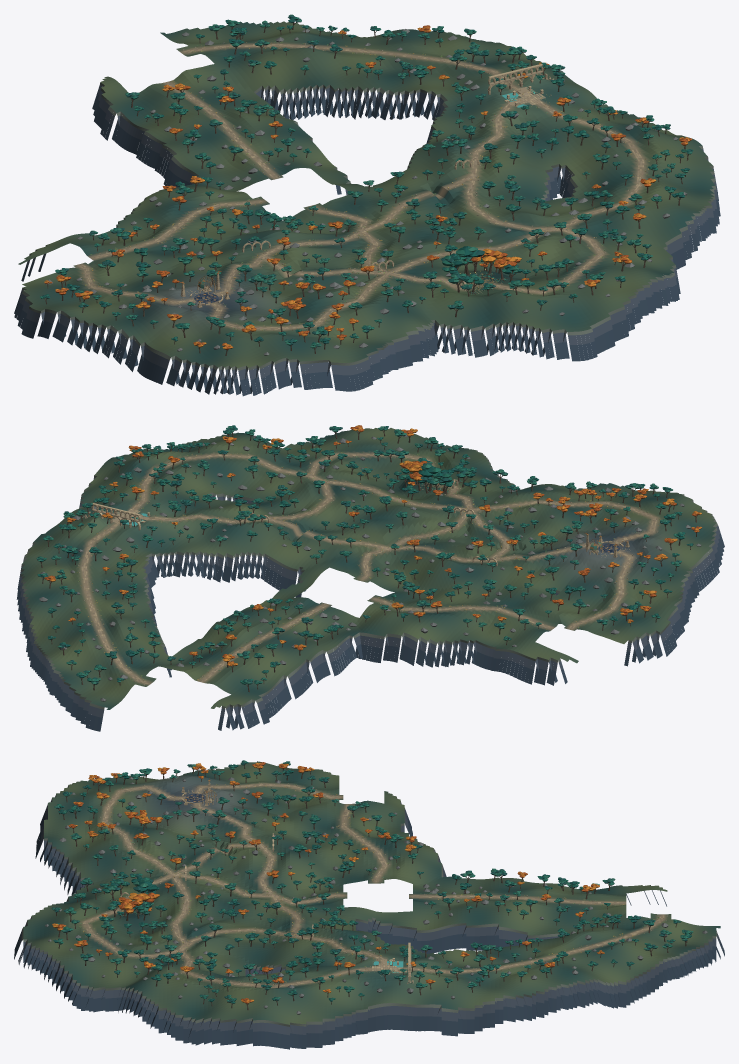
Rendered from outer_land_2.glb.
The picture shows the model from 3 angles, top to bottom: view 1: azimuth 30°, elevation 25°; view 2: azimuth 150°, elevation 25°; view 3: azimuth 270°, elevation 25°; orthographic projection. The views are drawn at different scales.
Visible parts, largest first — view 1: Ground_14_14-col, Ground_11_5-col, Ground_11_16-col, Detail_6_16, Ground_14_11-col, Ground_12_6-col, Ground_12_11-col, Detail_5_16, Detail_10_16, Ground_14_12-col, Ground_5_15-col, Ground_13_11-col (+119 smaller); view 2: Detail_8_8, Ground_12_4-col, Ground_12_10-col, Ground_5_12-col, Ground_14_13-col, Ground_7_9-col, Ground_6_10-col, Detail_6_9, Ground_8_11-col, Ground_7_11-col, Ground_10_12-col, Ground_6_12-col (+118 smaller); view 3: Detail_16_12, Ground_15_10-col, Ground_15_8-col, Ground_15_13-col, Ground_15_9-col, Detail_15_7, Detail_16_11, Detail_16_9, Detail_16_8, Detail_14_5, Detail_16_13, Detail_15_6 (+107 smaller).
Part boxes in pixels (x1,y1,x2,y2): Ground_14_14-col: [613, 193, 688, 245]; Ground_11_5-col: [205, 53, 283, 100]; Ground_11_16-col: [521, 287, 599, 328]; Detail_6_16: [282, 326, 343, 391]; Ground_14_11-col: [527, 122, 603, 166]; Ground_12_6-col: [283, 52, 361, 90]; Ground_12_11-col: [428, 155, 504, 199]; Detail_5_16: [218, 352, 287, 396]; Detail_10_16: [474, 280, 540, 356]; Ground_14_12-col: [568, 146, 633, 199]; Ground_5_15-col: [194, 323, 271, 365]; Ground_13_11-col: [478, 141, 552, 180]; Detail_8_8: [337, 632, 397, 668]; Ground_12_4-col: [59, 636, 126, 682]; Ground_12_10-col: [211, 521, 279, 554]; Ground_5_12-col: [572, 564, 636, 602]; Ground_14_13-col: [199, 443, 267, 486]; Ground_7_9-col: [405, 609, 473, 642]; Ground_6_10-col: [474, 602, 542, 636]; Detail_6_9: [450, 622, 511, 671]; Ground_8_11-col: [415, 557, 479, 591]; Ground_7_11-col: [455, 565, 523, 602]; Ground_10_12-col: [349, 517, 417, 550]; Ground_6_12-col: [524, 552, 593, 592]; Detail_16_12: [228, 985, 278, 1047]; Ground_15_10-col: [327, 973, 375, 1008]; Ground_15_8-col: [425, 972, 474, 1008]; Ground_15_13-col: [179, 980, 228, 1014]; Ground_15_9-col: [376, 970, 425, 1004]; Detail_15_7: [474, 968, 526, 1028]; Detail_16_11: [277, 989, 326, 1049]; Detail_16_9: [376, 1003, 425, 1031]; Detail_16_8: [425, 1004, 474, 1036]; Detail_14_5: [573, 961, 621, 1008]; Detail_16_13: [179, 996, 229, 1045]; Detail_15_6: [523, 972, 572, 1020].
Bounding box in the file's own units: 480 × 59.46 × 520.
